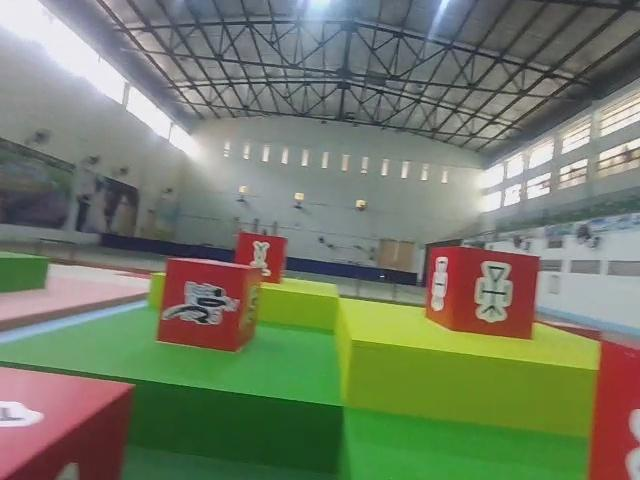R1: (150, 253, 263, 356)
R2 Real: (418, 242, 538, 343), (234, 229, 289, 289)
